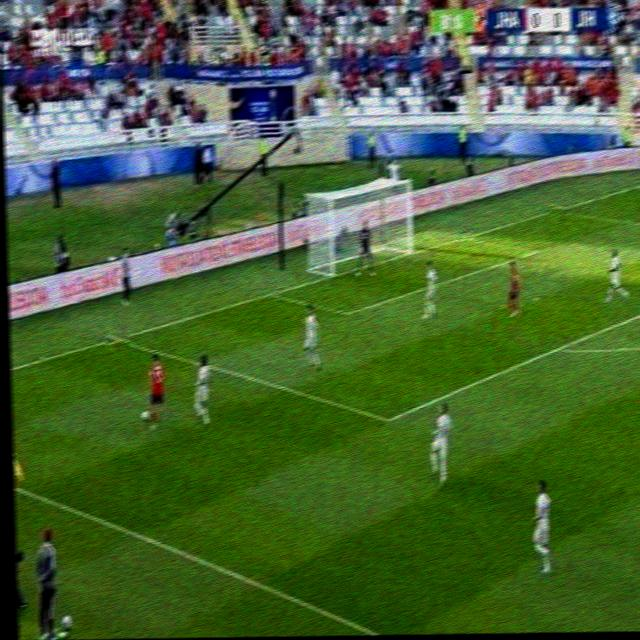bigarea_bottom_inner: (377, 404, 403, 435)
bigarea_bottom_outter: (105, 326, 129, 351)
bigarea_top_outter: (548, 201, 567, 217)
bottom_arc_area_intersection: (548, 336, 571, 360)
smallarea_bottom_inner: (339, 301, 358, 323)
smallarea_bottom_outter: (262, 281, 284, 303)
smallarea_top_inner: (525, 242, 546, 259)
smallarea_top_outter: (456, 228, 475, 246)
